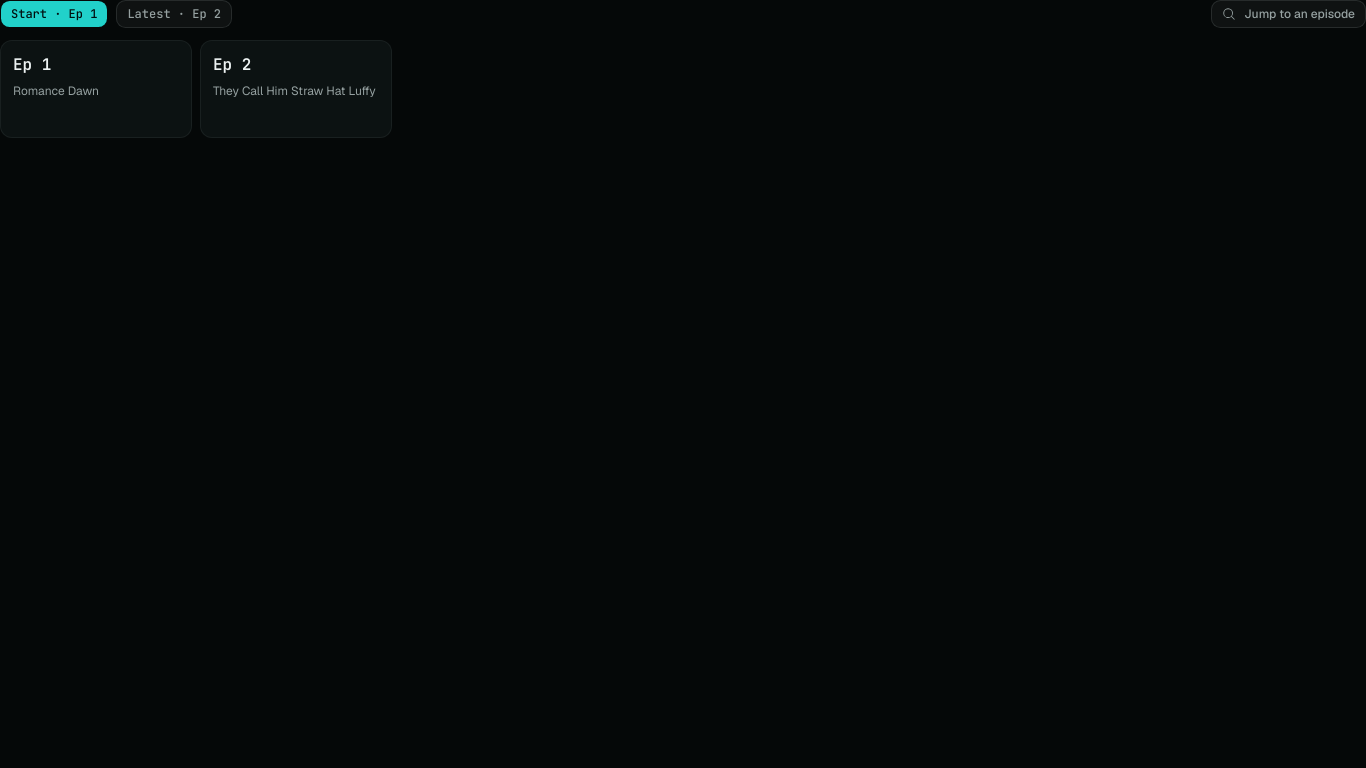
it: EpisodeNavigator — ways in › finds an episode by title
Click the dropdown labelled "Jump to an episode": (1289, 14) top-left (1211, 0), bottom-right (1365, 28)
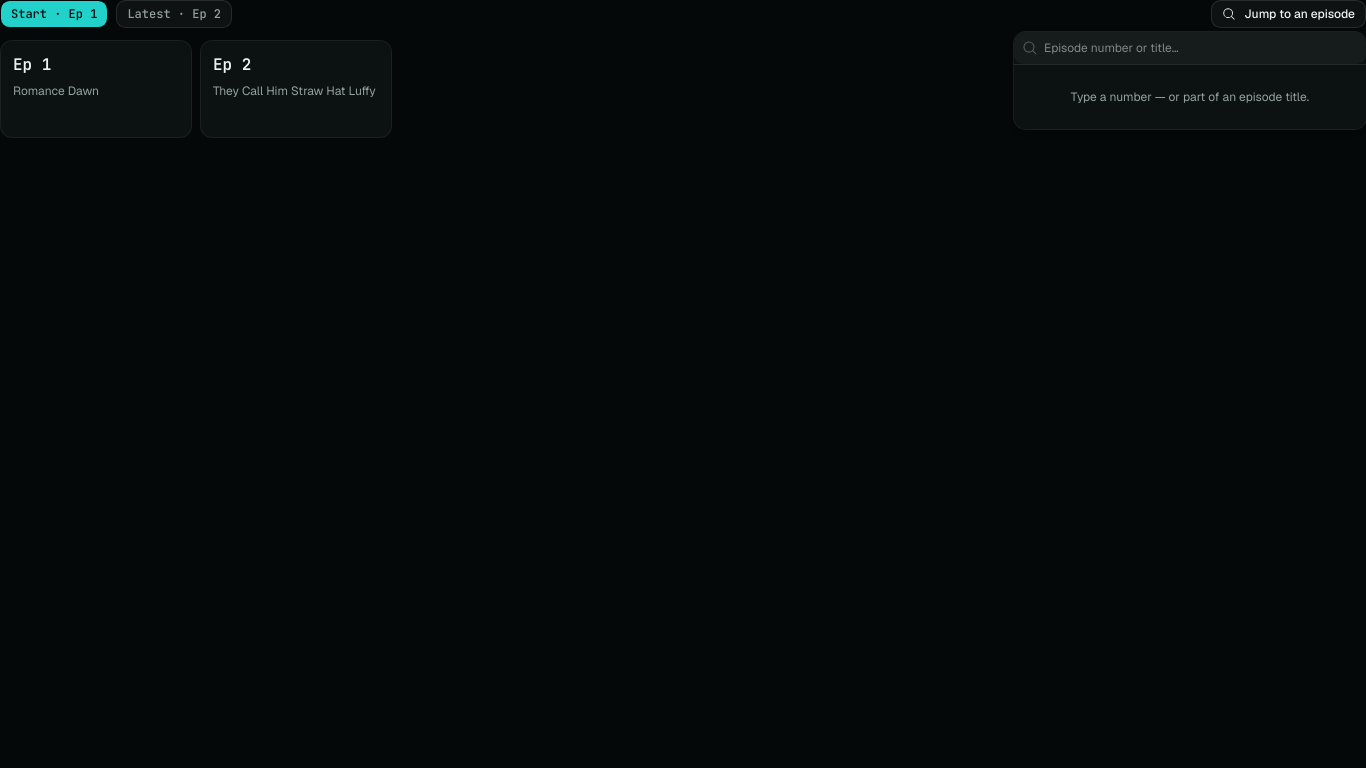
In the dropdown with placeholder "Episode number or title…": (1202, 48) top-left (1038, 40), bottom-right (1365, 56), type "straw hat"
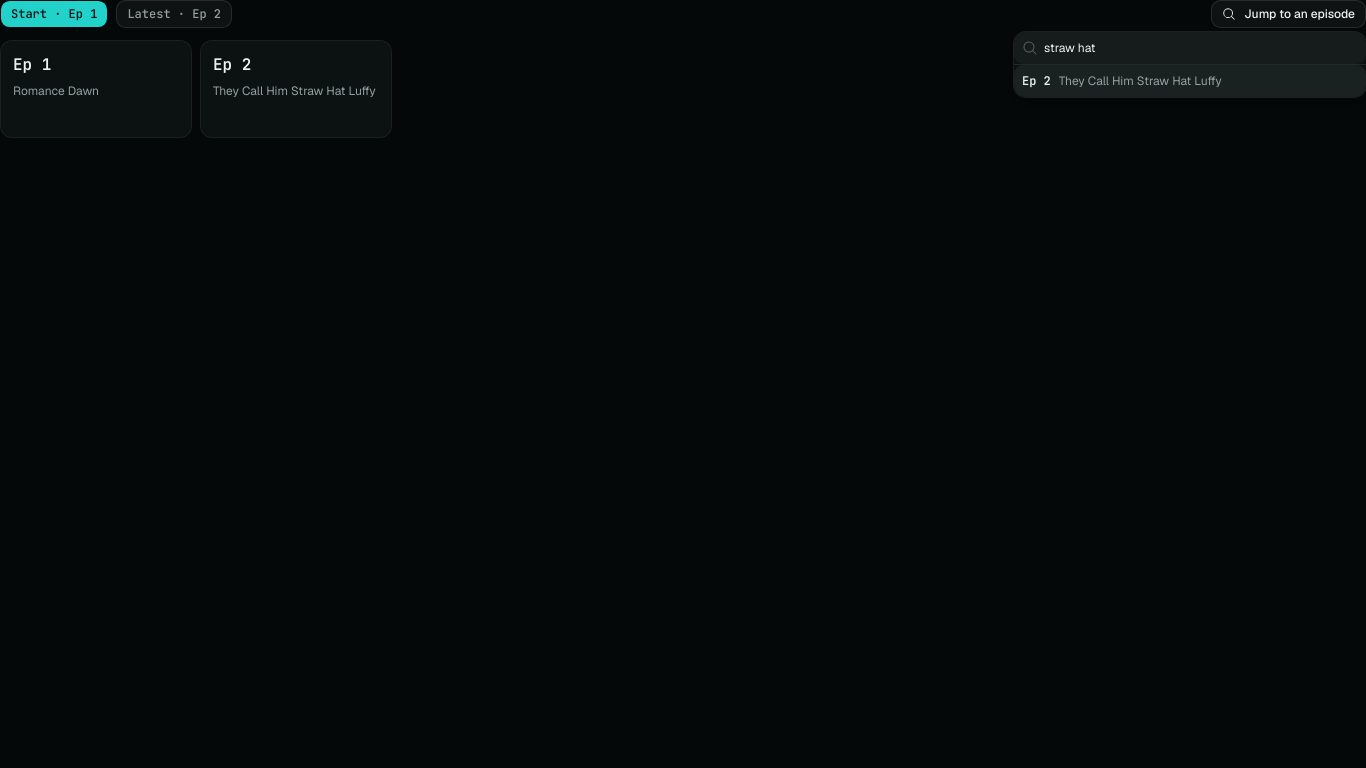
Now the number of options is 1, box top-left (1014, 65), bottom-right (1365, 97)
Now the option shows "Ep 2", box top-left (1014, 65), bottom-right (1365, 97)
